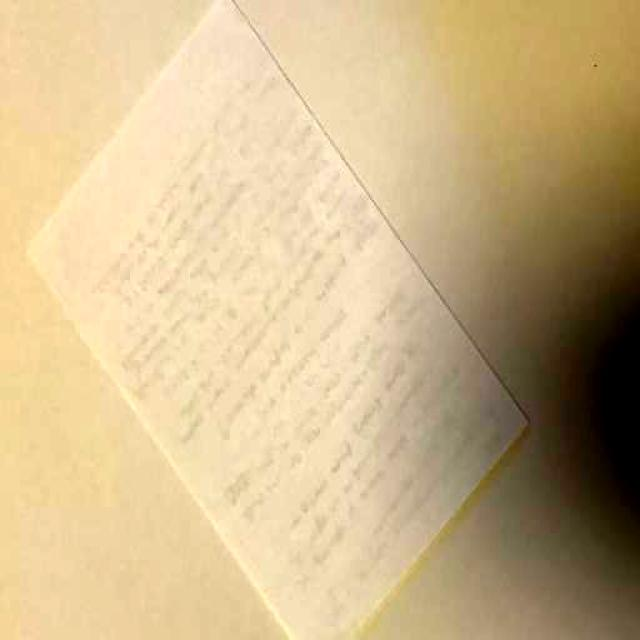Paper: (22, 0, 532, 640)
